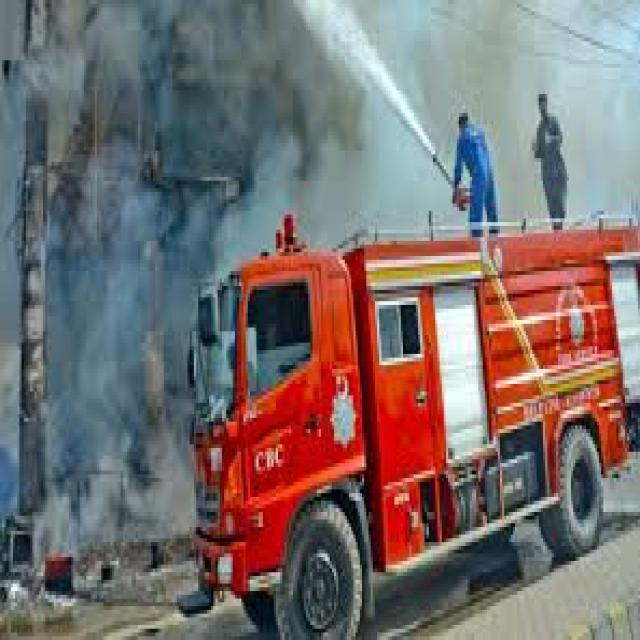Fire_brigade: (185, 196, 638, 640)
